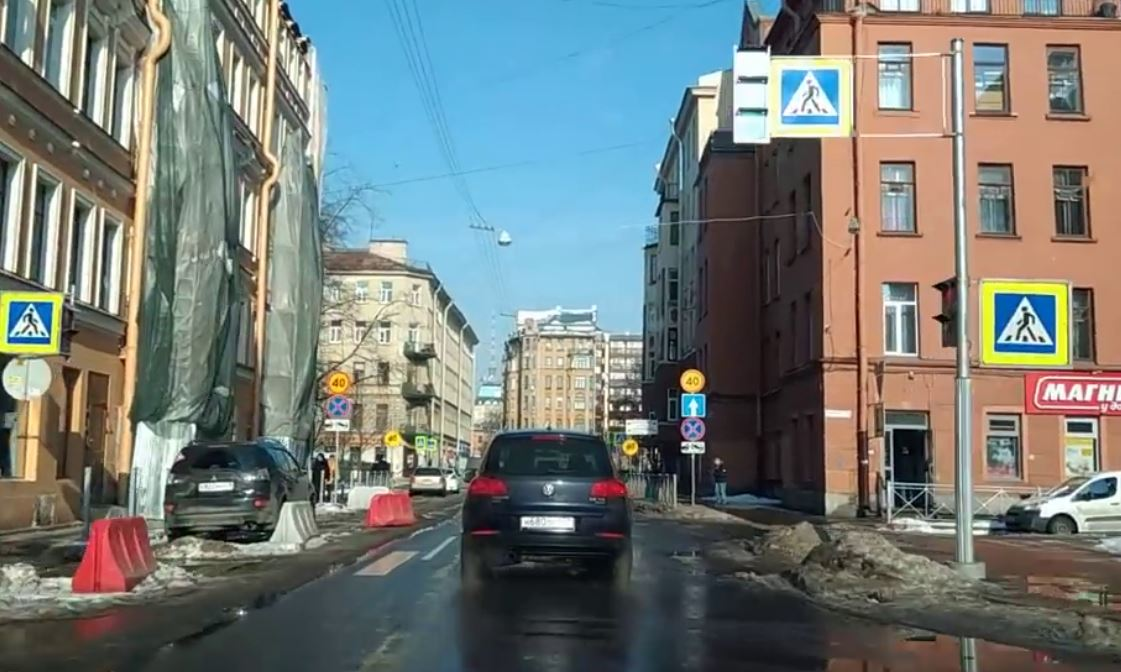Yaya Gecidi: (1000, 292, 1055, 350), (786, 68, 842, 124), (7, 300, 48, 346)
